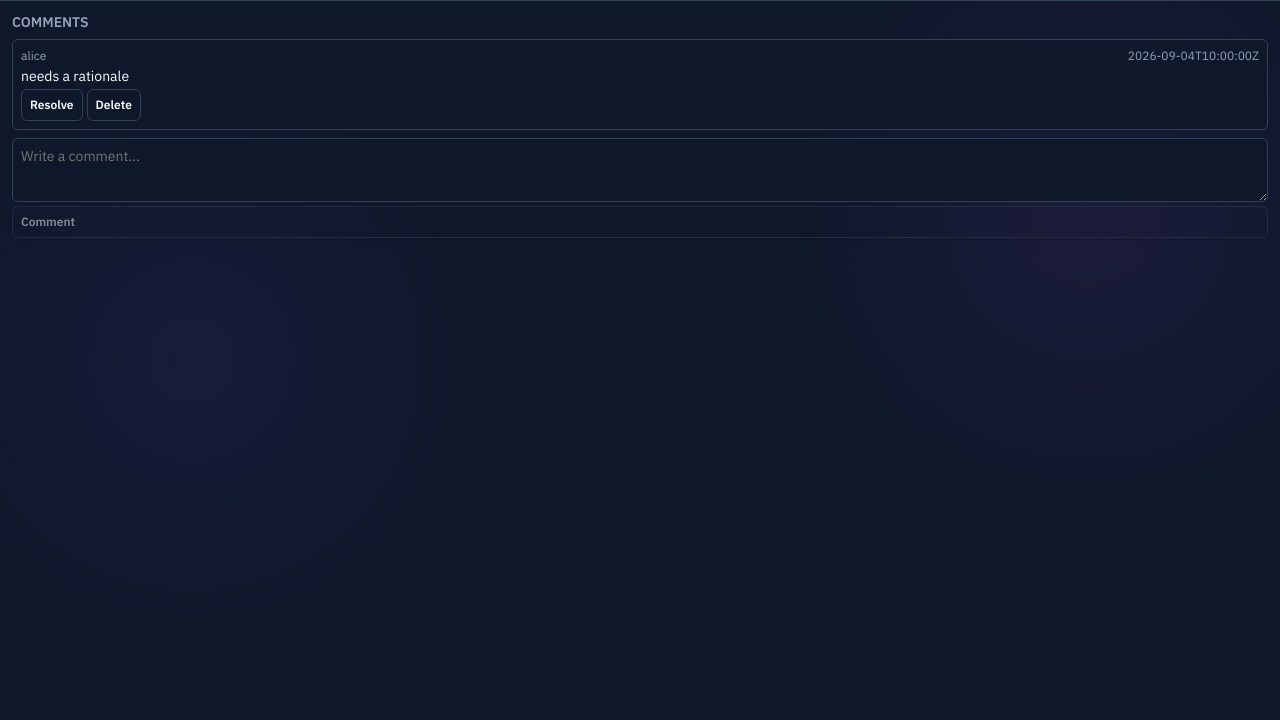
Test case: CommentPanel › closes the dialog on the success path
expect the text "needs a rationale" is shown: met, box [21,67,129,85]
Click the button with test id "comment-panel-delete-c1": {"x": 114, "y": 105} [87,89,141,121]
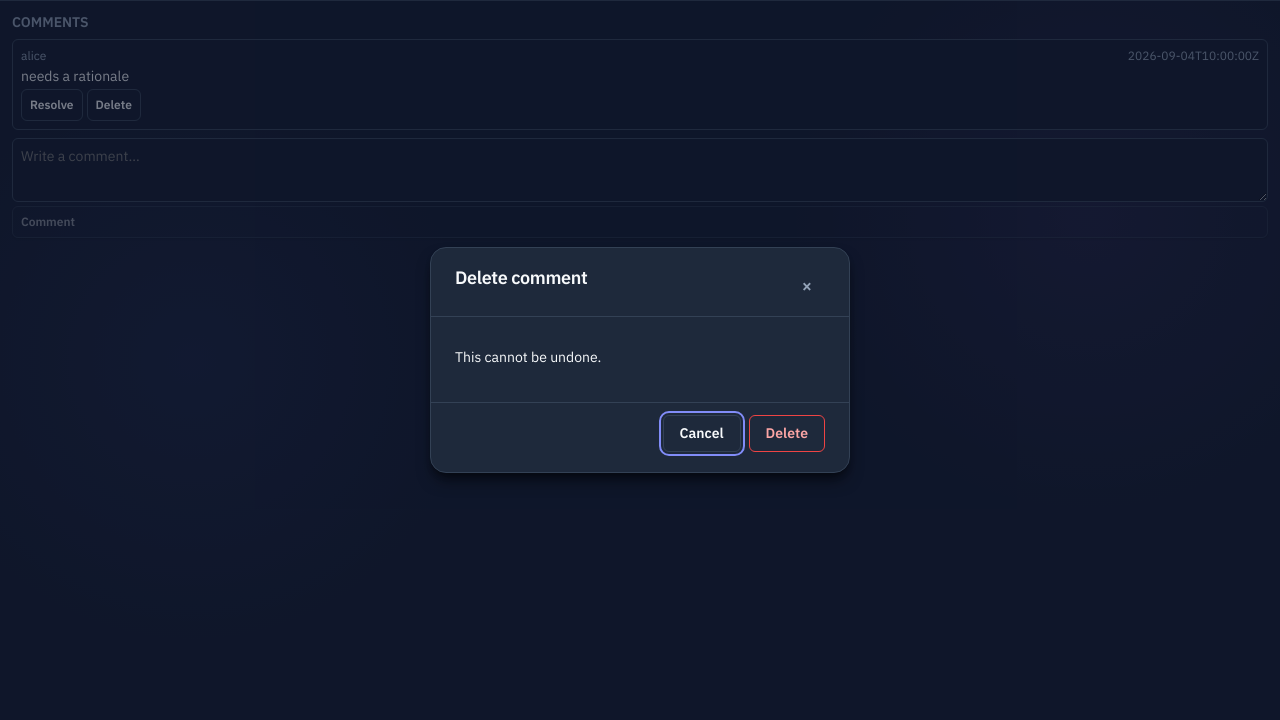
Click the button with test id "comment-delete-confirm": {"x": 787, "y": 434} [749,415,825,452]
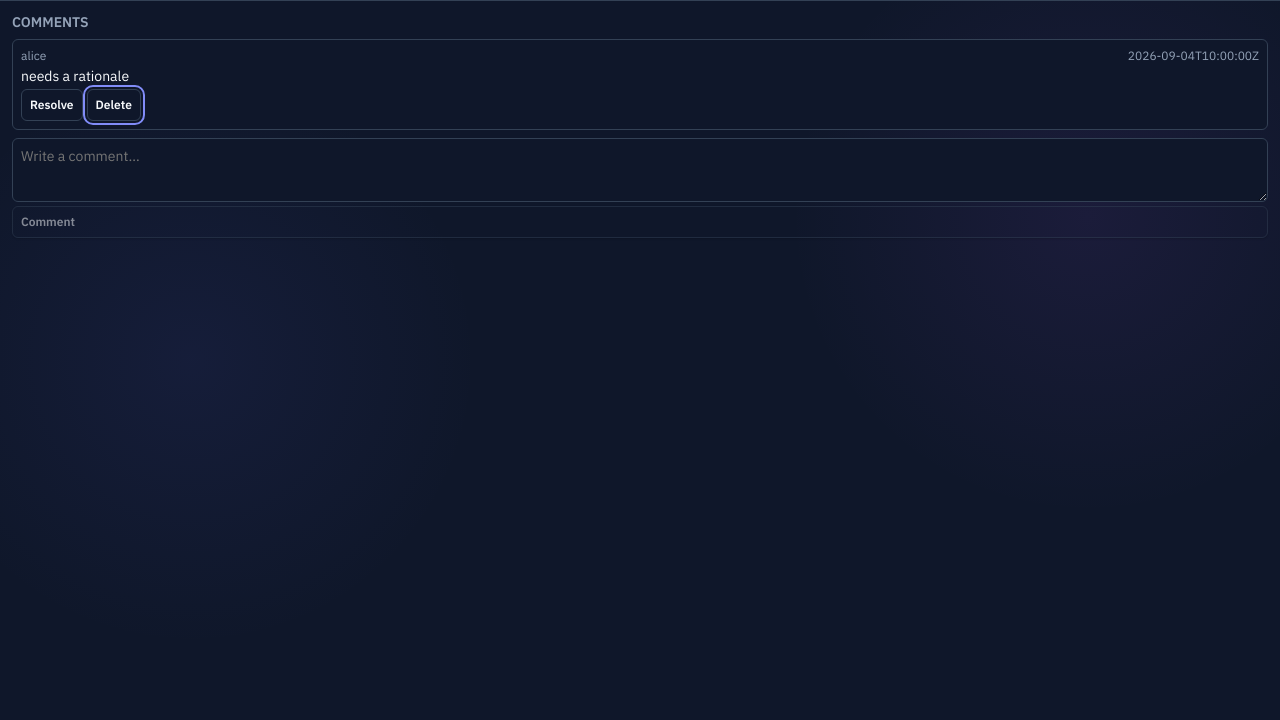
expect the dialog with test id "comment-delete-dialog" is gone: met
